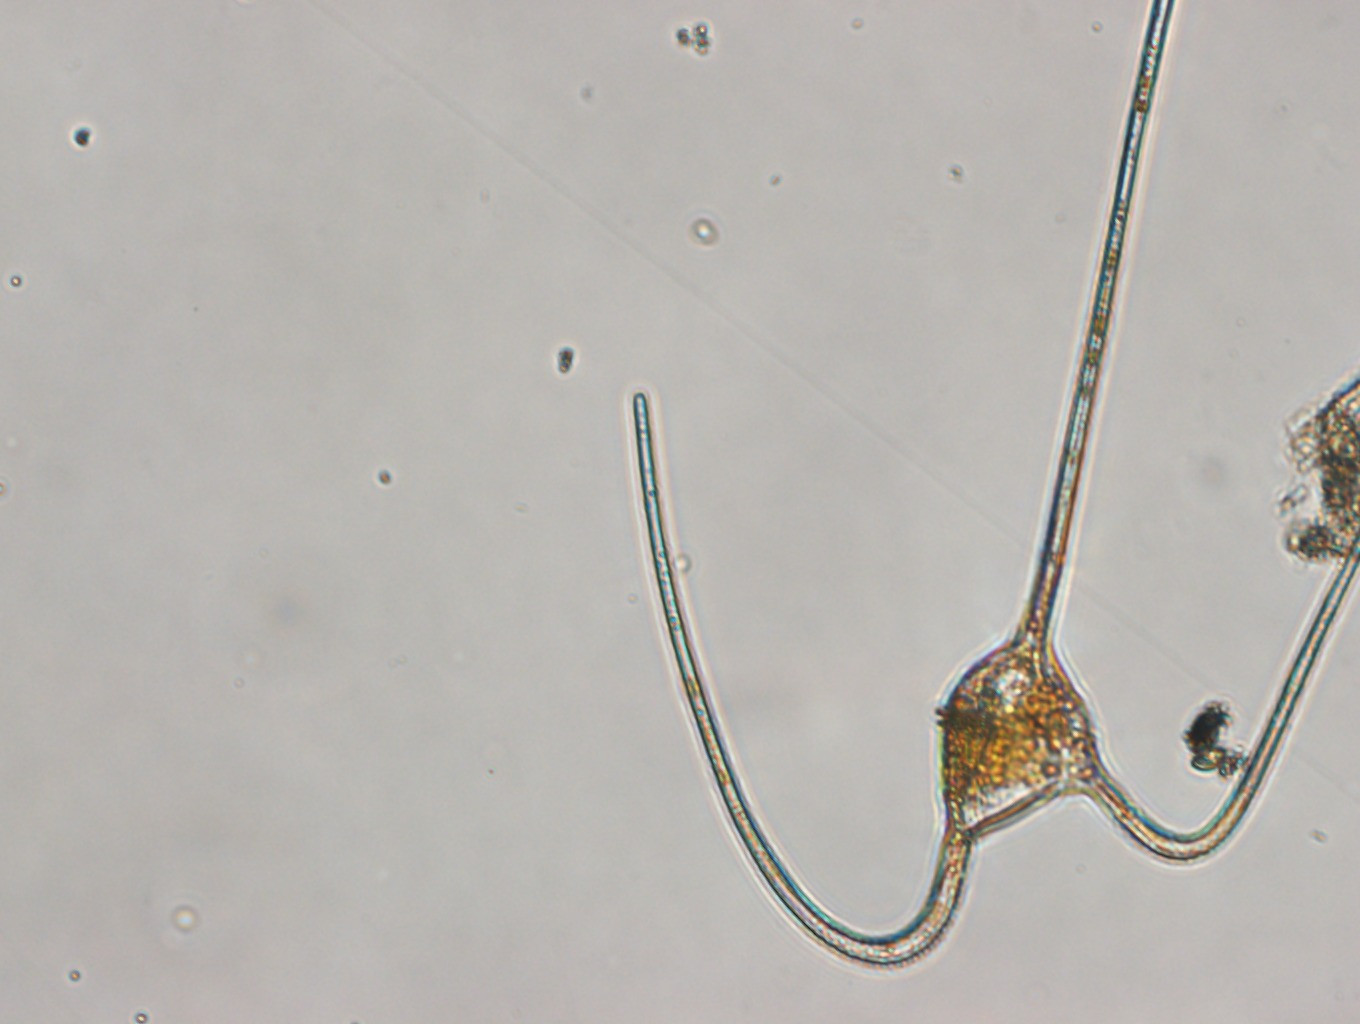ceratium carriense: (630, 1, 1360, 968)
